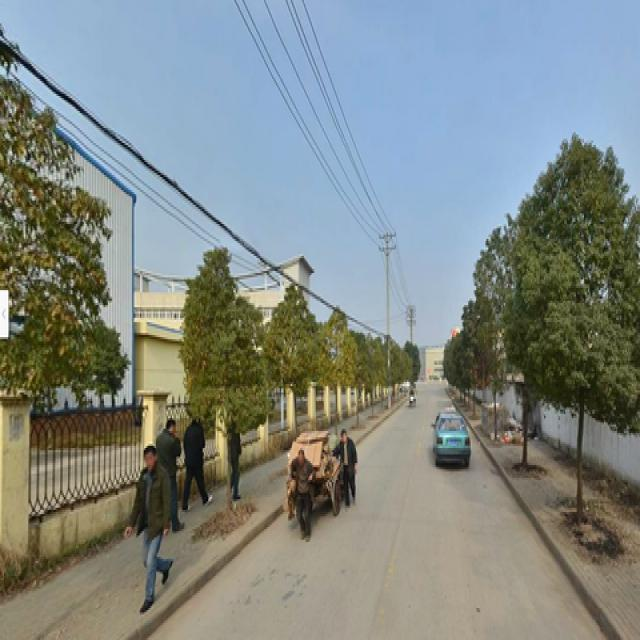cinn: (539, 164, 620, 508), (184, 252, 241, 522), (480, 224, 532, 469), (270, 282, 306, 435), (321, 312, 351, 433)
